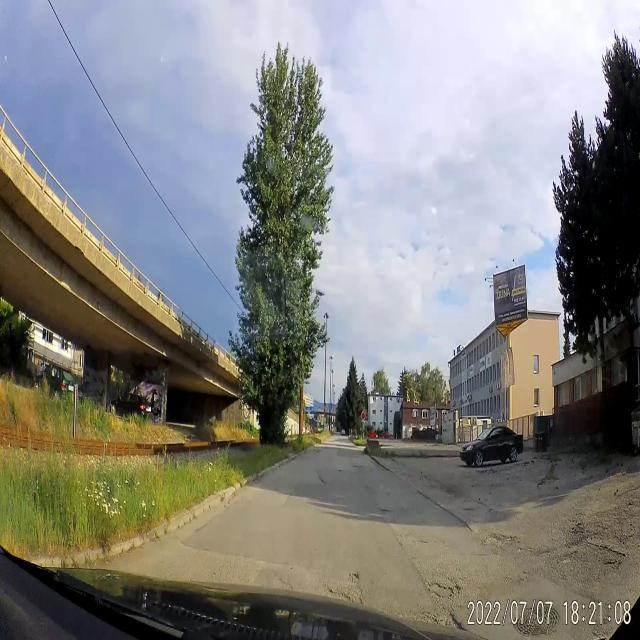Manhole: (511, 595, 566, 640)
Pothole: (401, 611, 466, 623), (482, 527, 516, 549), (424, 583, 466, 600), (348, 568, 362, 588), (377, 504, 397, 516)
